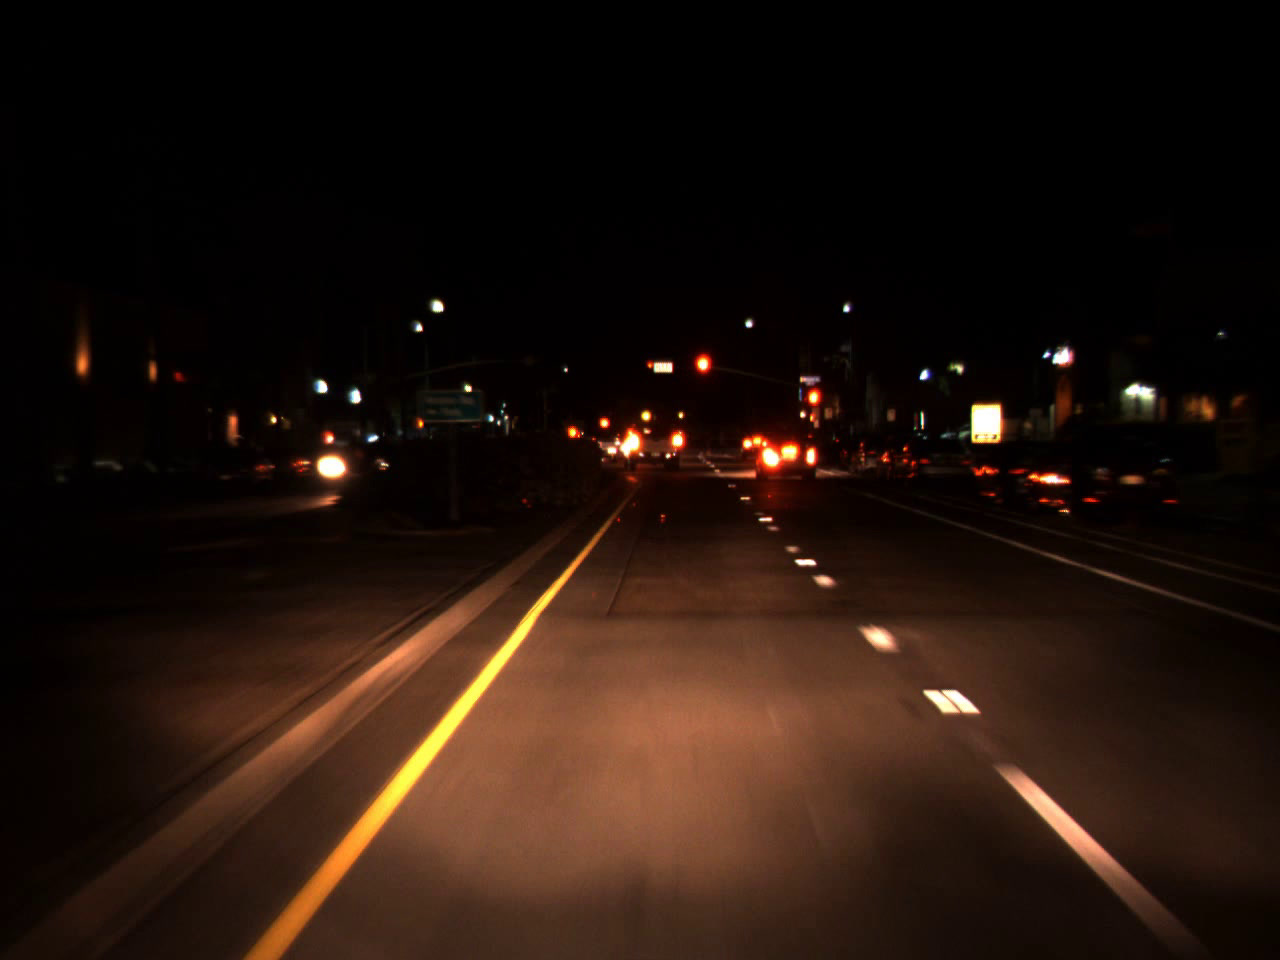stop: (692, 350, 713, 395), (805, 383, 823, 431), (646, 361, 655, 374)
